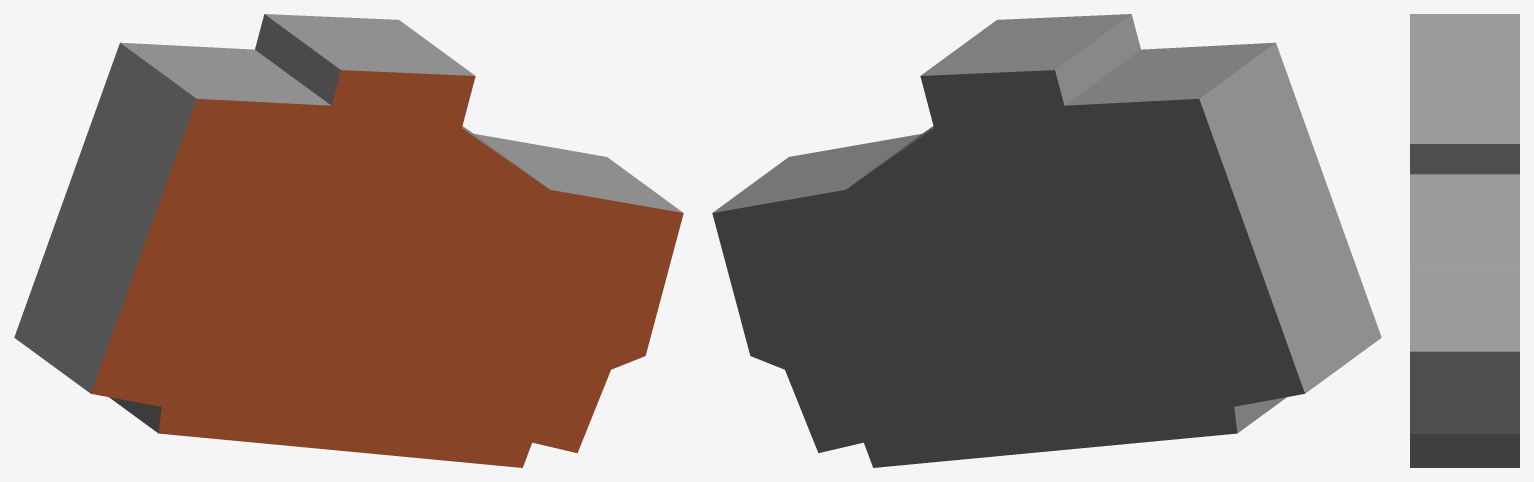
Rendered from construction_3244_assumed_A_Casa_h6m.obj.
3 views of the same model, side by side, from view 1: azimuth 30°, elevation 25°; view 2: azimuth 150°, elevation 25°; view 3: azimuth 270°, elevation 25° (orthographic). The views are drawn at different scales.
Parts seen in each view (by area): view 1: construction_3244_assumed_A_Casa; view 2: construction_3244_assumed_A_Casa; view 3: construction_3244_assumed_A_Casa.
Part boxes in pixels (box(x1,y1,x2,y2)): construction_3244_assumed_A_Casa: box(14, 14, 683, 467); construction_3244_assumed_A_Casa: box(712, 14, 1381, 467); construction_3244_assumed_A_Casa: box(1410, 14, 1519, 467).
Bounding box in the file's own units: 26.79 × 19.38 × 6.
